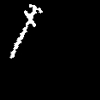double_crochet: (10, 4, 42, 57)
